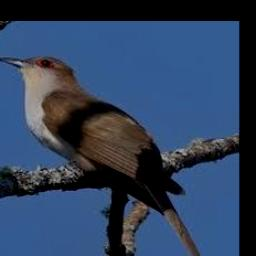Cuckoo: (0, 56, 214, 256)
